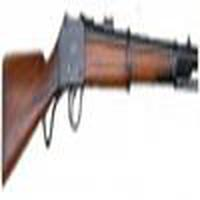gun: (2, 12, 200, 184)
